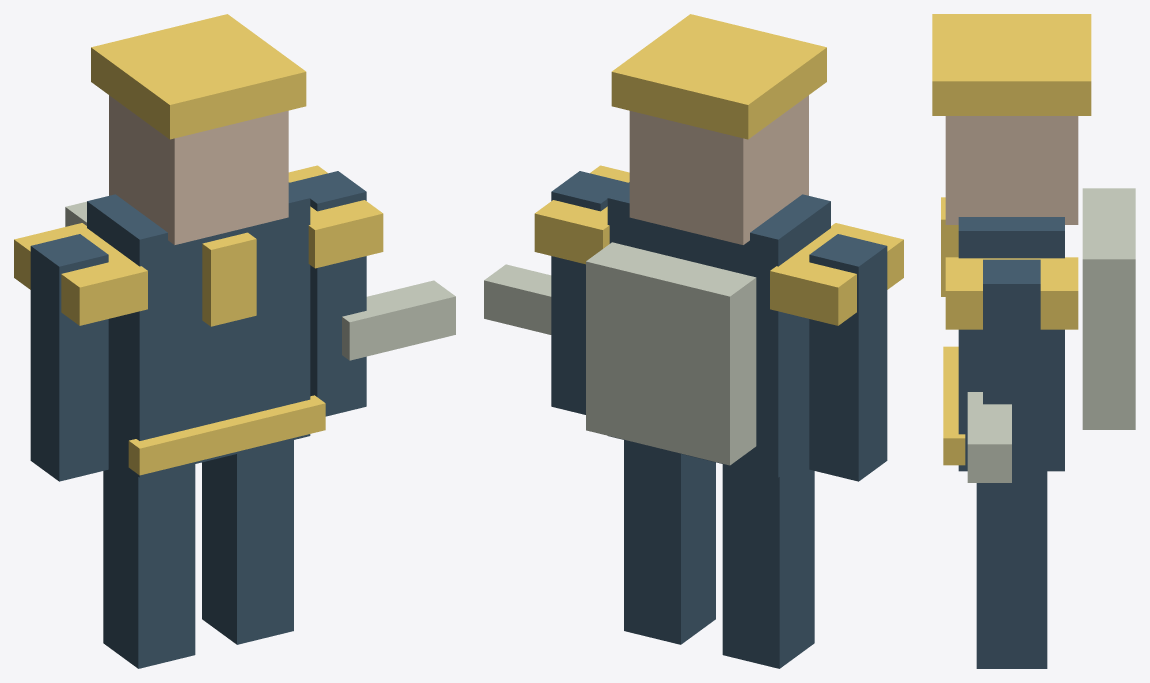
The model's file is 18_maelis_tideforged_tamer_under_voidwatch.glb.
The picture shows the model from 3 angles, left to right: view 1: azimuth 30°, elevation 25°; view 2: azimuth 150°, elevation 25°; view 3: azimuth 270°, elevation 25°; orthographic projection.
Visible parts, largest first — view 1: Maelis Tideforged, Tamer under Voidwatch; view 2: Maelis Tideforged, Tamer under Voidwatch; view 3: Maelis Tideforged, Tamer under Voidwatch.
Part boxes in pixels (box(x1,y1,x2,y2)): Maelis Tideforged, Tamer under Voidwatch: box(14, 14, 455, 668); Maelis Tideforged, Tamer under Voidwatch: box(484, 14, 903, 668); Maelis Tideforged, Tamer under Voidwatch: box(932, 14, 1135, 668).
Size of the model in its own units: 1.02 by 1.44 by 0.457.
